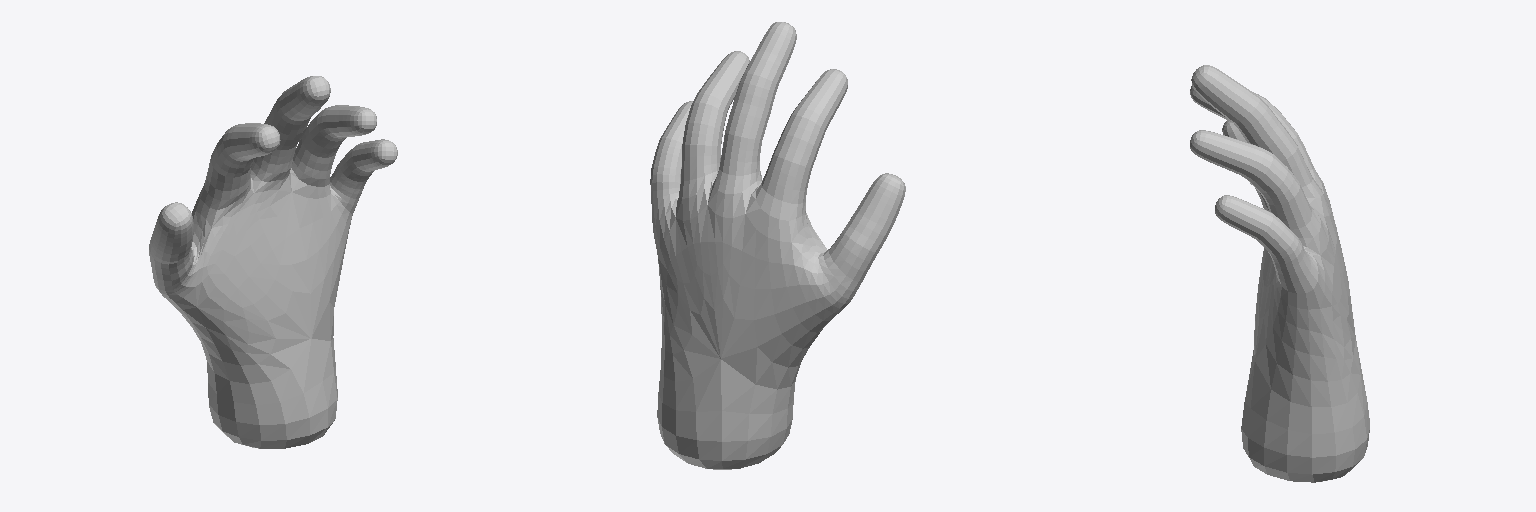
File: handanimatsion15.obj
The picture shows the model from 3 angles: view 1: azimuth 30°, elevation 25°; view 2: azimuth 150°, elevation 25°; view 3: azimuth 270°, elevation 25°; orthographic projection.
Visible parts, largest first — view 1: Cube; view 2: Cube; view 3: Cube.
Boxes of the visible parts, x1,y1,x2,y2 form: Cube: [149, 76, 397, 448]; Cube: [650, 22, 905, 469]; Cube: [1190, 65, 1369, 482].
Bounding box in the file's own units: 3.64 × 6.04 × 2.47.